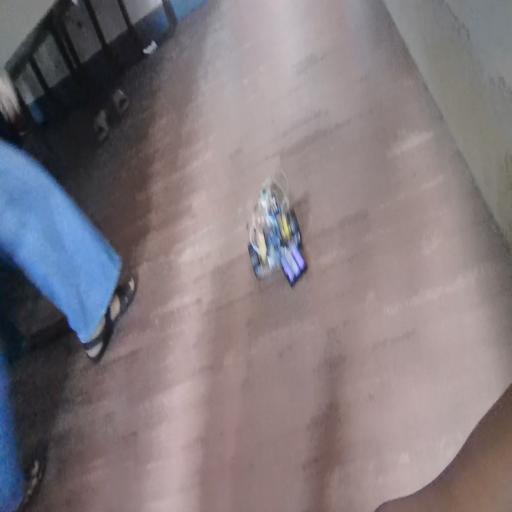car: (259, 176, 308, 294)
